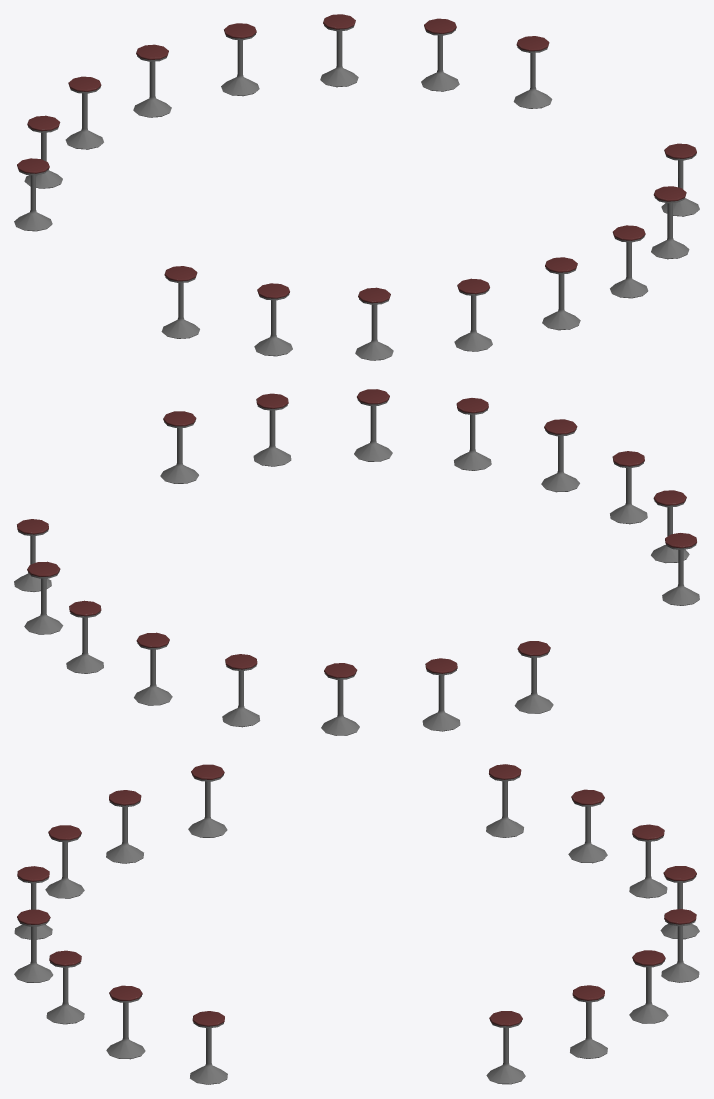
Rendered from Commons_Stools.fbx.
3 renders of one model, top to bottom at view 1: azimuth 30°, elevation 25°; view 2: azimuth 150°, elevation 25°; view 3: azimuth 270°, elevation 25°, orthographic.
Parts seen in each view (by area): view 1: Commons_Stools; view 2: Commons_Stools; view 3: Commons_Stools.
Part boxes in pixels (x1,y1,x2,y2): Commons_Stools: (14, 14, 699, 360); Commons_Stools: (14, 389, 699, 735); Commons_Stools: (14, 764, 699, 1084).
Bounding box in the file's own units: 1867 × 195 × 2054.
